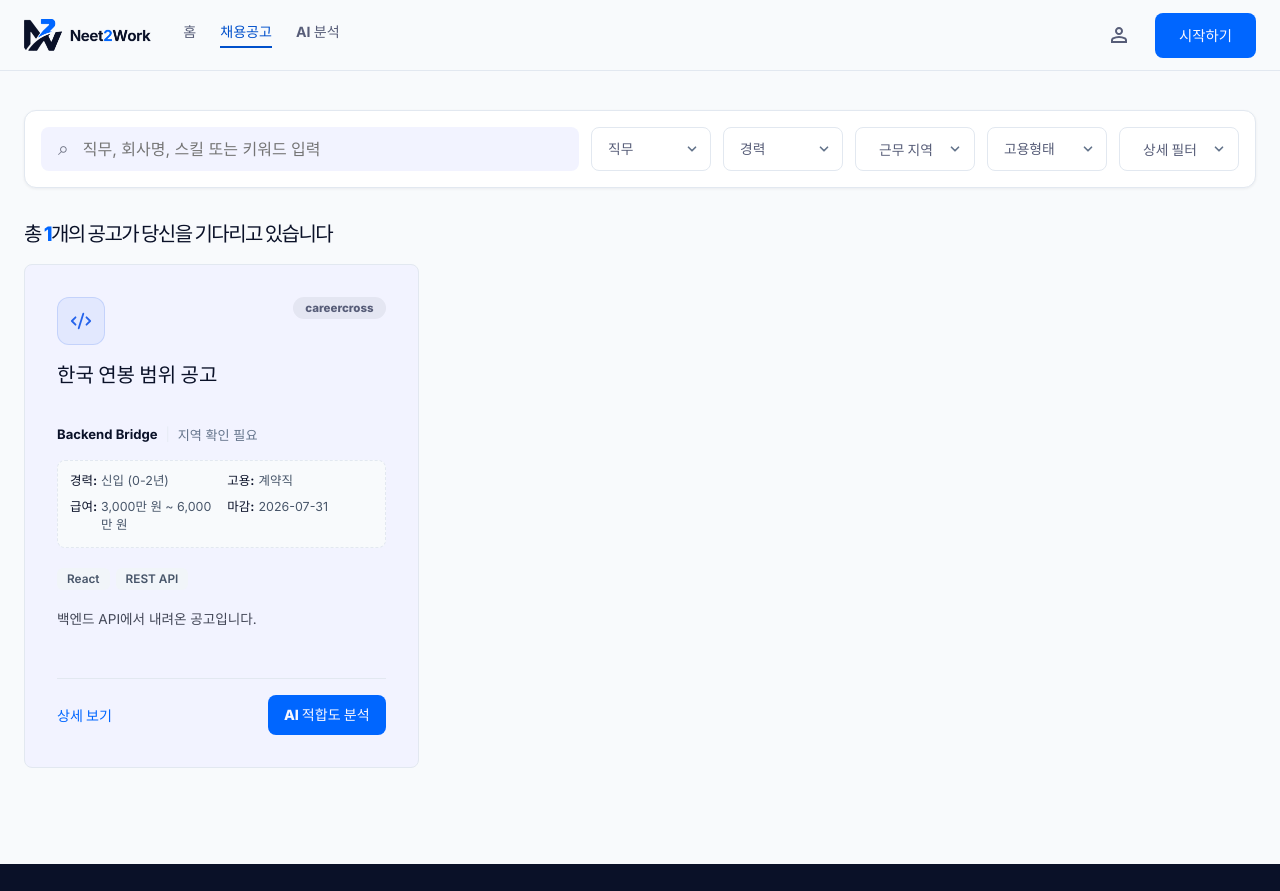
Test: Jobs page backend integration › shows salary supplementary notes only inside the detail drawer
The image size is (1280, 891).
Expected: the text "3,000만 원 ~ 6,000만 원" is shown, [101,499,215,535]
Expected: the text "면접 후 결정" is not shown
Click the button "상세 보기". click: {"x": 84, "y": 715}
box: [57,697,112,733]
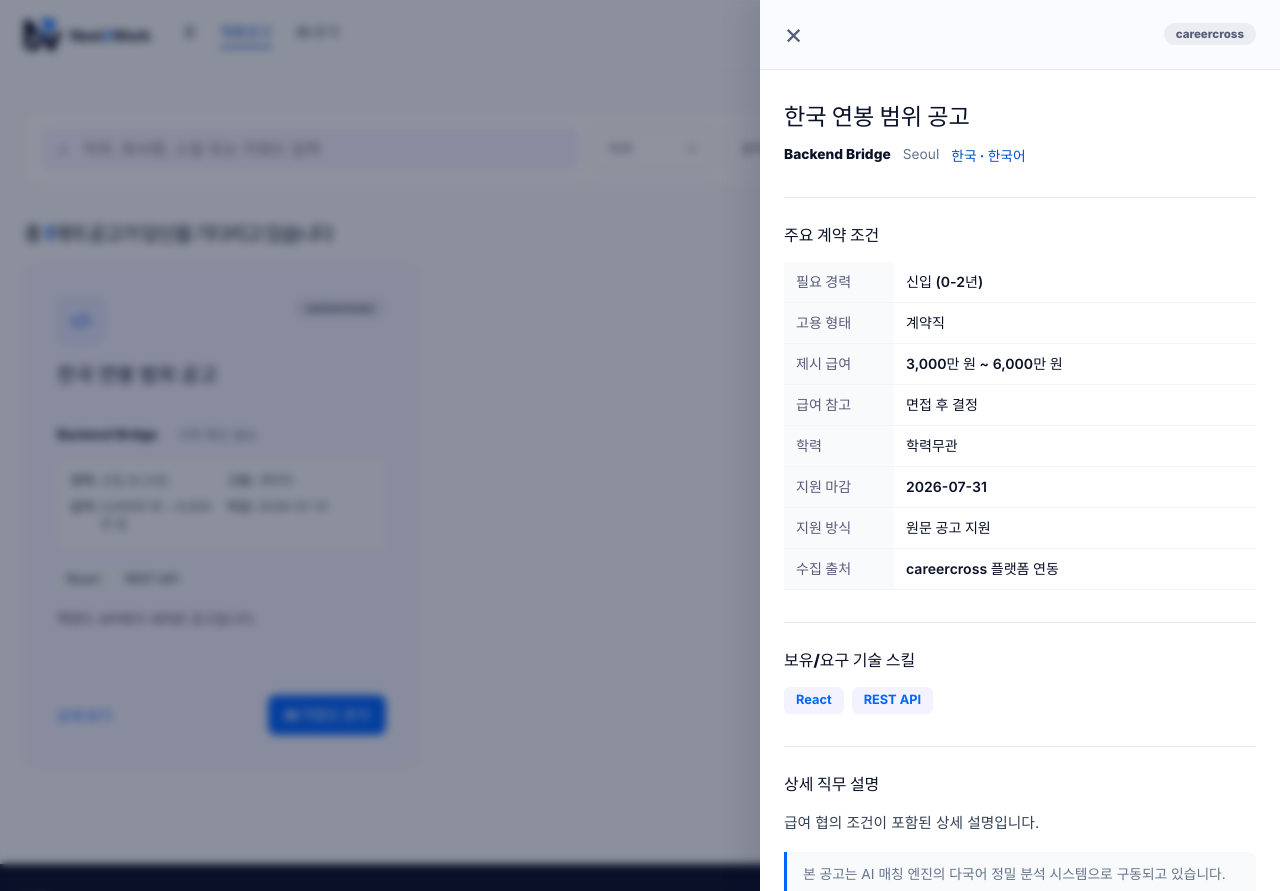
Now the column heading "급여 참고" is shown, box [784,385,894,426]
Now the text "면접 후 결정" is shown, box [894,385,1256,426]
